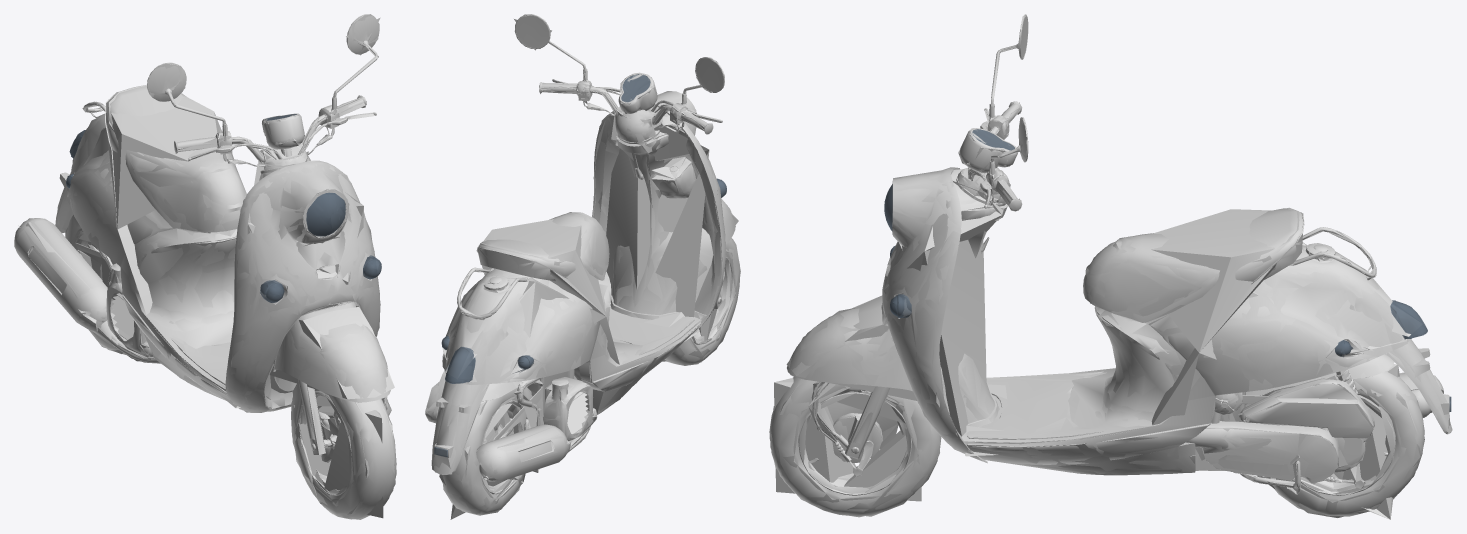
The model's file is scooter.fbx.
The picture shows the model from 3 angles, left to right: view 1: azimuth 30°, elevation 25°; view 2: azimuth 150°, elevation 25°; view 3: azimuth 270°, elevation 25°; orthographic projection. The views are drawn at different scales.
Visible parts, largest first — view 1: Body, LOD1_Body, LOD2_Body, LOD3_Body, Wheel_F, LOD3_Wheel_F, LOD1_Wheel_F, LOD2_Wheel_F, Wheel_R; view 2: Body, LOD1_Body, LOD2_Body, LOD3_Body, Wheel_R, Wheel_F, LOD1_Wheel_R, LOD1_Wheel_F, LOD2_Wheel_R, LOD2_Wheel_F, LOD3_Wheel_R; view 3: Body, LOD1_Body, LOD2_Body, LOD3_Body, Wheel_F, Wheel_R, LOD3_Wheel_F, LOD1_Wheel_F, LOD2_Wheel_F, LOD1_Wheel_R, LOD3_Wheel_R, LOD2_Wheel_R.
Boxes of the visible parts, box(x1,y1,x2,y2) form: Body: box(14, 14, 390, 454); LOD1_Body: box(14, 14, 388, 454); LOD2_Body: box(14, 14, 388, 449); LOD3_Body: box(18, 17, 394, 415); Wheel_F: box(291, 384, 396, 519); LOD3_Wheel_F: box(294, 396, 383, 518); LOD1_Wheel_F: box(291, 389, 396, 519); LOD2_Wheel_F: box(292, 383, 395, 519); Wheel_R: box(66, 215, 118, 351); Body: box(425, 14, 735, 481); LOD1_Body: box(425, 14, 735, 481); LOD2_Body: box(425, 14, 731, 480); LOD3_Body: box(443, 19, 738, 457); Wheel_R: box(442, 387, 539, 515); Wheel_F: box(664, 238, 739, 365); LOD1_Wheel_R: box(443, 391, 539, 515); LOD1_Wheel_F: box(669, 239, 740, 365); LOD2_Wheel_R: box(439, 387, 531, 513); LOD2_Wheel_F: box(671, 239, 740, 362); LOD3_Wheel_R: box(450, 403, 522, 519); Body: box(787, 14, 1452, 494); LOD1_Body: box(790, 15, 1451, 494); LOD2_Body: box(799, 47, 1450, 487); LOD3_Body: box(786, 125, 1410, 460); Wheel_F: box(769, 377, 941, 516); Wheel_R: box(1256, 371, 1424, 515); LOD3_Wheel_F: box(774, 378, 921, 501); LOD1_Wheel_F: box(770, 377, 939, 517); LOD2_Wheel_F: box(769, 379, 939, 516); LOD1_Wheel_R: box(1264, 373, 1424, 516); LOD3_Wheel_R: box(1301, 364, 1399, 519); LOD2_Wheel_R: box(1266, 389, 1420, 517).
Bounding box in the file's own units: 0.7611 × 1.29 × 1.8.
